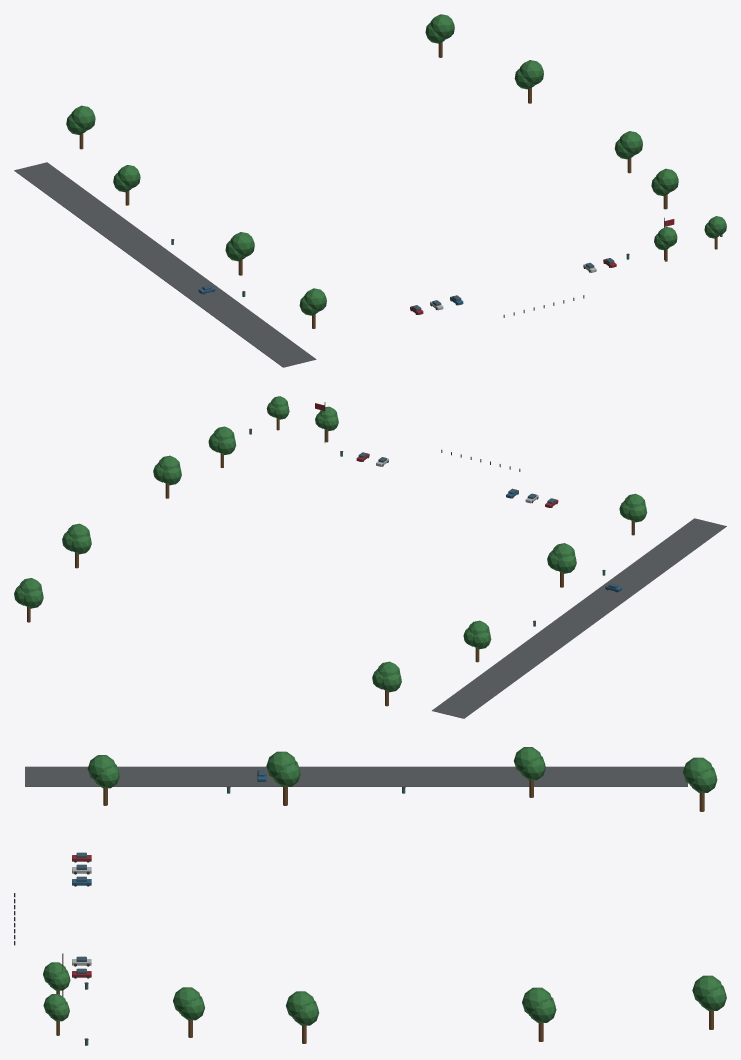
Rendered from props.glb.
3 renders of one model, top to bottom at view 1: azimuth 30°, elevation 25°; view 2: azimuth 150°, elevation 25°; view 3: azimuth 270°, elevation 25°, orthographic. The views are drawn at different scales.
Parts seen in each view (by area): view 1: Internal_Road; view 2: Internal_Road; view 3: Internal_Road, LM_Tree_03_Canopy.002, LM_Tree_08_Canopy.002, LM_Tree_06_Canopy.002, LM_Tree_07_Canopy.002.
Part boxes in pixels (x1,y1,x2,y2): Internal_Road: [14, 162, 316, 367]; Internal_Road: [432, 518, 726, 718]; Internal_Road: [25, 766, 687, 786]; LM_Tree_03_Canopy.002: [266, 751, 296, 779]; LM_Tree_08_Canopy.002: [692, 975, 722, 1003]; LM_Tree_06_Canopy.002: [522, 987, 552, 1015]; LM_Tree_07_Canopy.002: [683, 757, 713, 784].
Bounding box in the file's own units: 142 × 12.33 × 151.
